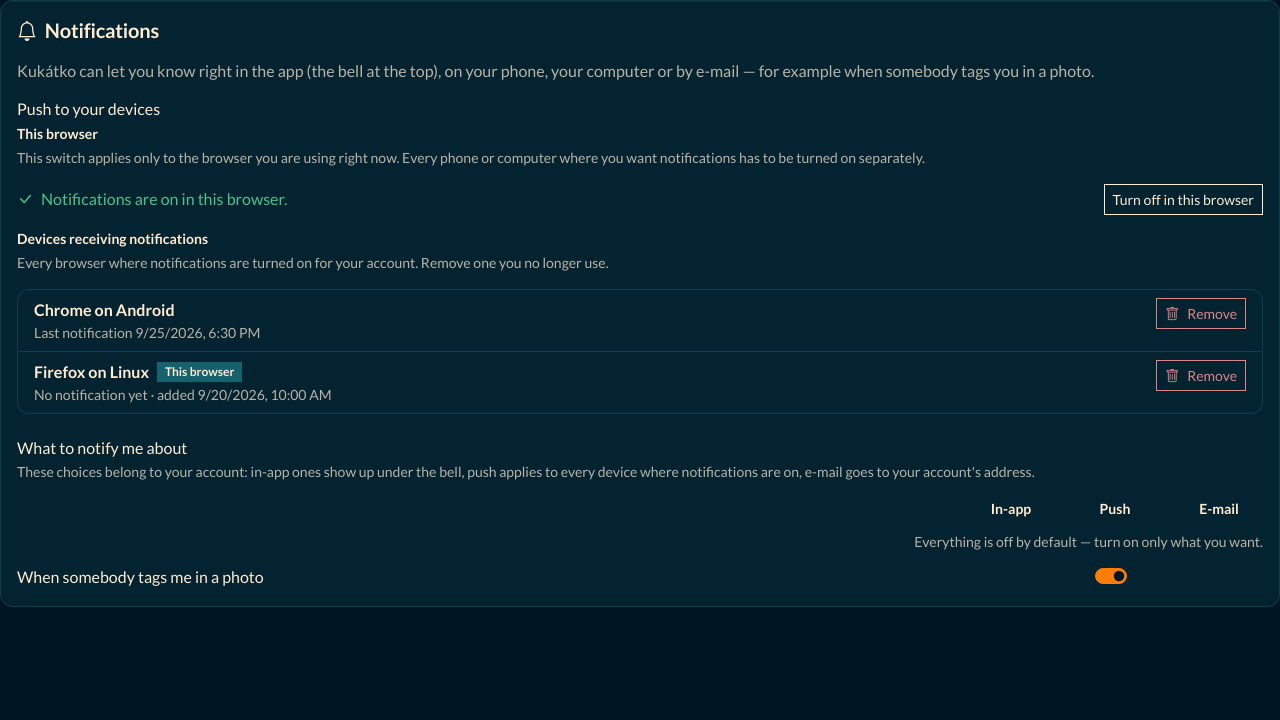
Test: NotificationsCard — this browser › turns an on browser off, unsubscribing in both places
Expected: the heading "What to notify me about" is shown, left=17, top=438, right=187, bottom=457
Expected: the text "Notifications are on in this browser." is shown, left=17, top=188, right=287, bottom=212
Click the button "Turn off in this browser" at (1183, 200), box left=1104, top=184, right=1263, bottom=215
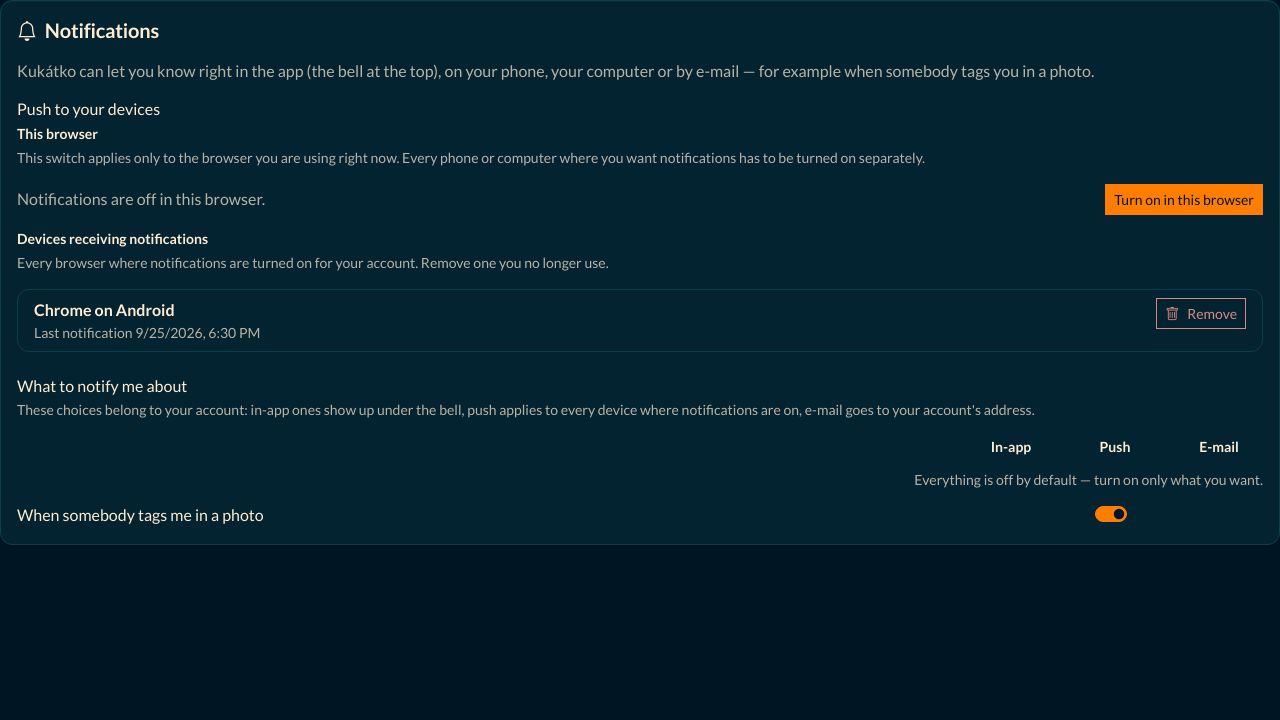
Now the text "Notifications are off in this browser." is shown, box left=17, top=188, right=265, bottom=212
